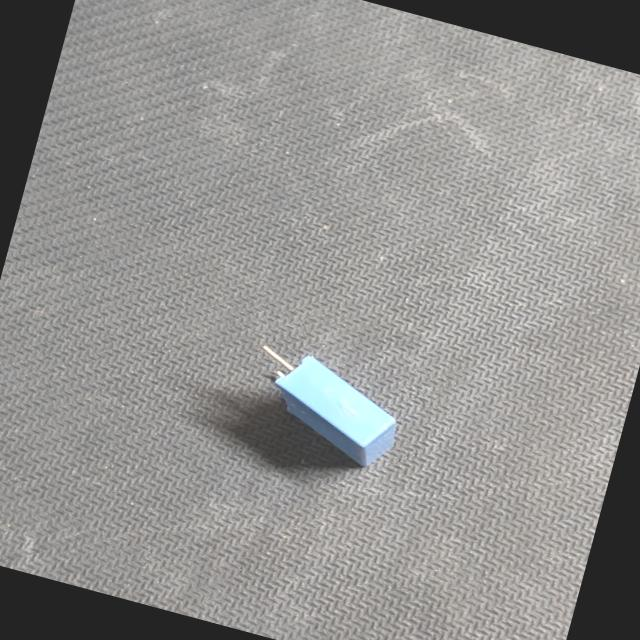capacitor: (222, 327, 423, 487)
